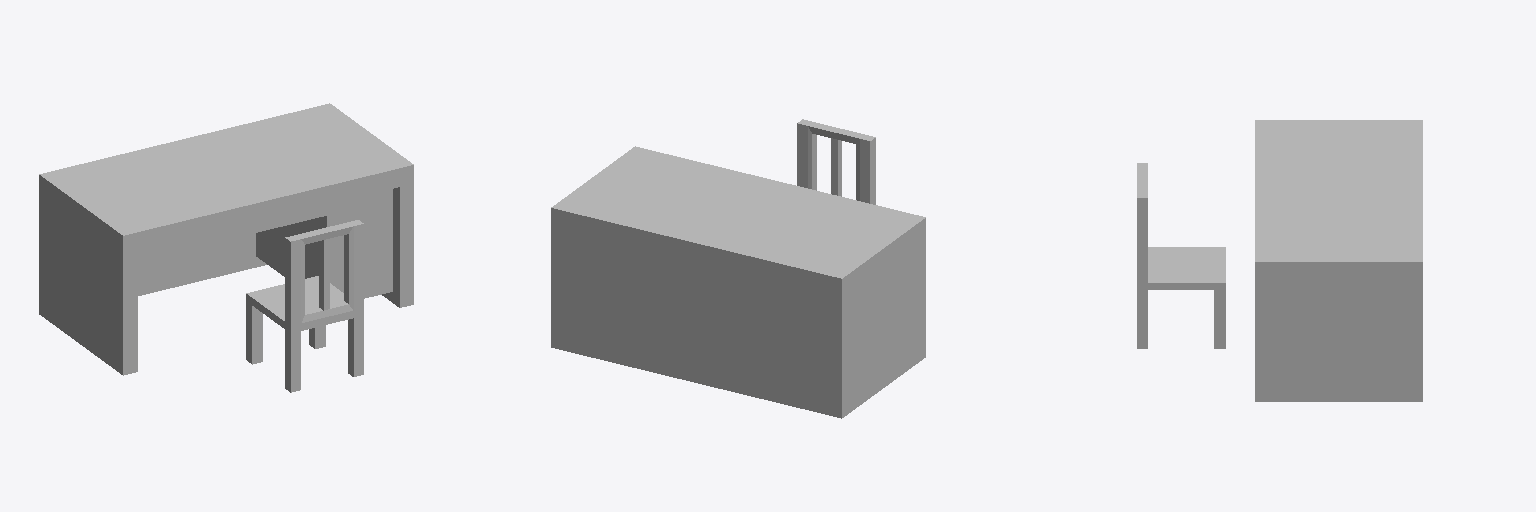
Rendered from Teacher's desk.obj.
3 views of the same model, side by side, from view 1: azimuth 30°, elevation 25°; view 2: azimuth 150°, elevation 25°; view 3: azimuth 270°, elevation 25° (orthographic).
Parts seen in each view (by area): view 1: Cube, Cube.001; view 2: Cube, Cube.001; view 3: Cube, Cube.001.
Boxes of the visible parts, x1,y1,x2,y2 form: Cube: [39, 103, 413, 375]; Cube.001: [246, 220, 363, 392]; Cube: [551, 146, 925, 418]; Cube.001: [797, 119, 875, 204]; Cube: [1255, 120, 1422, 401]; Cube.001: [1137, 163, 1225, 348].
Bounding box in the file's own units: 4.9 × 2.43 × 4.16.